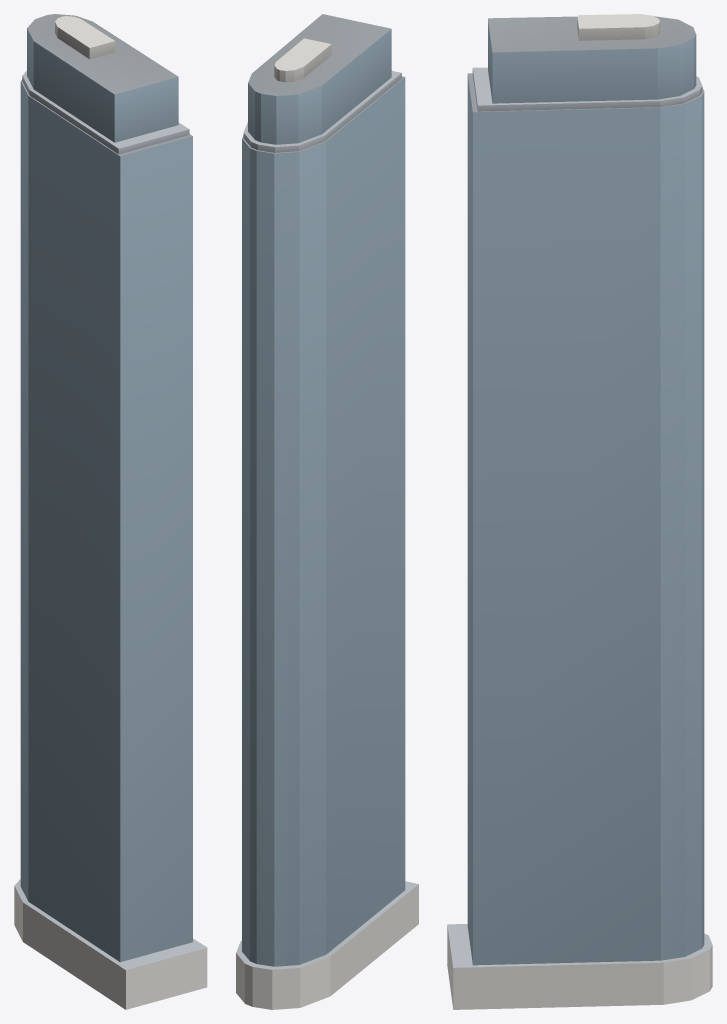
The model's file is tower_06.glb.
3 renders of one model, left to right at view 1: azimuth 30°, elevation 25°; view 2: azimuth 150°, elevation 25°; view 3: azimuth 270°, elevation 25°, orthographic. The views are drawn at different scales.
Parts seen in each view (by area): view 1: tower_06; view 2: tower_06; view 3: tower_06.
Part boxes in pixels (<box>): tower_06: <box>14,14,207,1009</box>; tower_06: <box>236,14,418,1009</box>; tower_06: <box>447,14,712,1009</box>.
Bounding box in the file's own units: 33.92 × 321 × 80.01.
